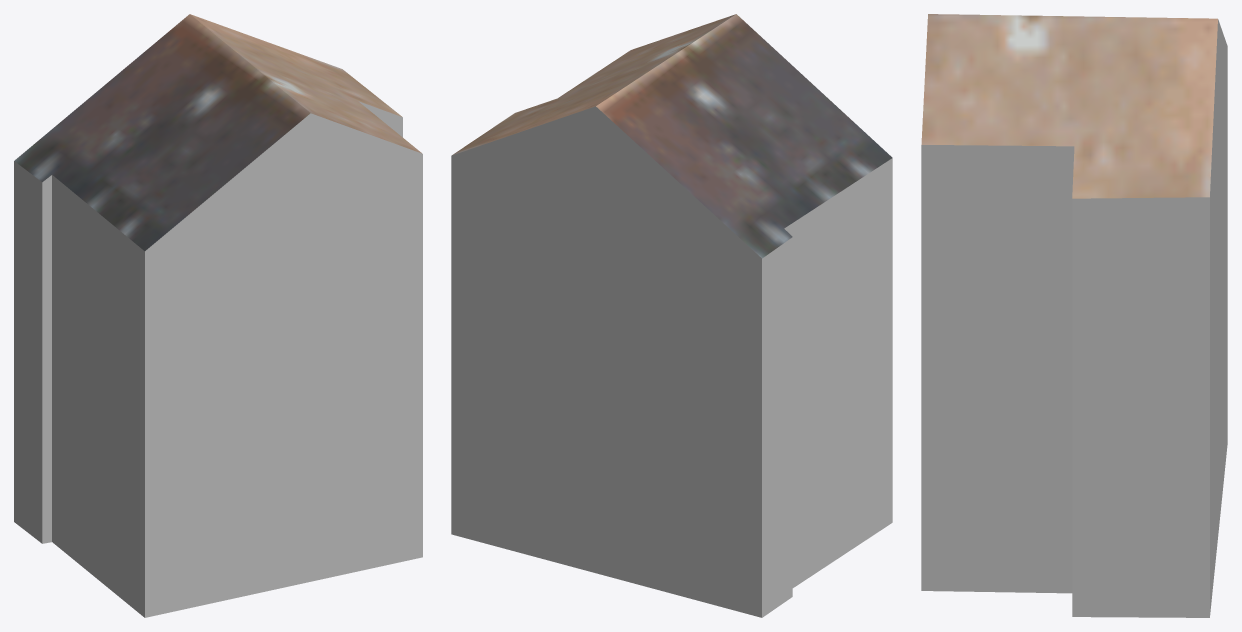
Rendered from DEBW_0010007Txbv.gltf.
The picture shows the model from 3 angles, left to right: view 1: azimuth 30°, elevation 25°; view 2: azimuth 150°, elevation 25°; view 3: azimuth 270°, elevation 25°; orthographic projection. The views are drawn at different scales.
Parts seen in each view (by area): view 1: Z_UP; view 2: Z_UP; view 3: Z_UP.
Part boxes in pixels (x1,y1,x2,y2): Z_UP: [14, 14, 422, 617]; Z_UP: [451, 14, 892, 617]; Z_UP: [921, 14, 1227, 617].
Size of the model in its own units: 12.59 by 17.55 by 9.38.
Materials: 2 (1 with a texture image).
